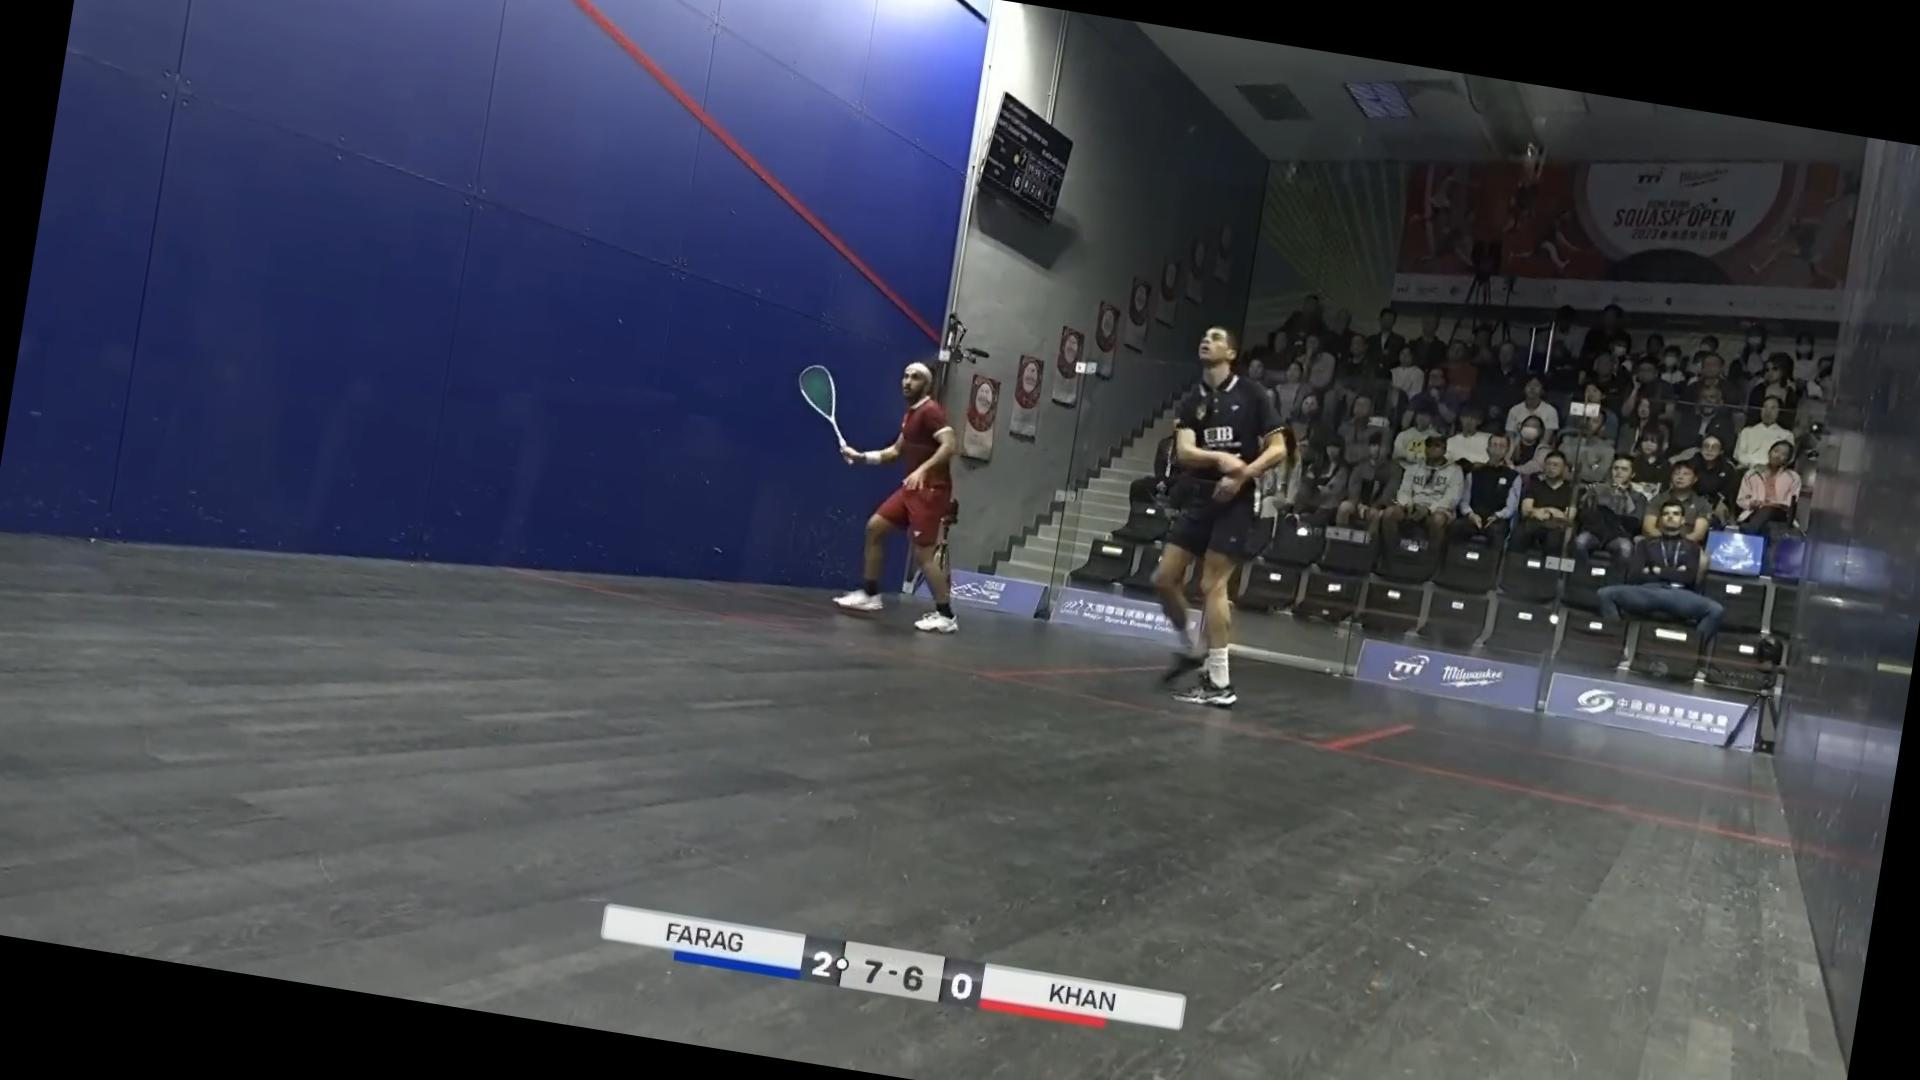Racket: (761, 365, 872, 463)
